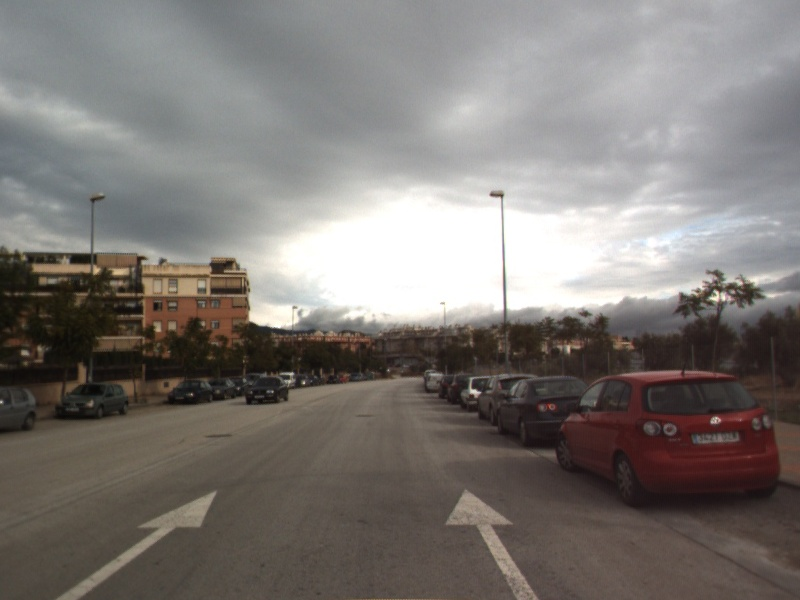STRAIGHT: (51, 488, 220, 600), (442, 486, 542, 600)
